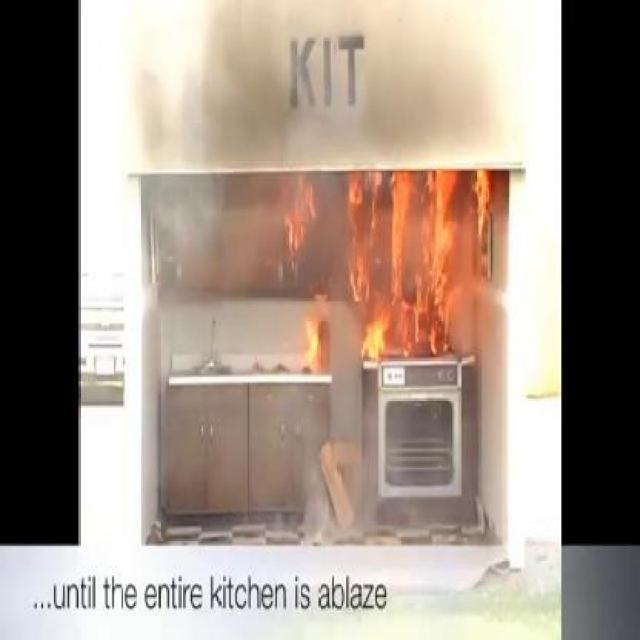fire: (349, 164, 460, 358), (290, 293, 341, 384), (282, 174, 313, 280), (470, 178, 495, 235)
